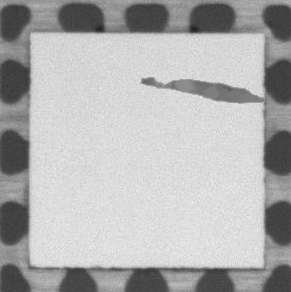DIE_INK: (138, 74, 263, 105)
